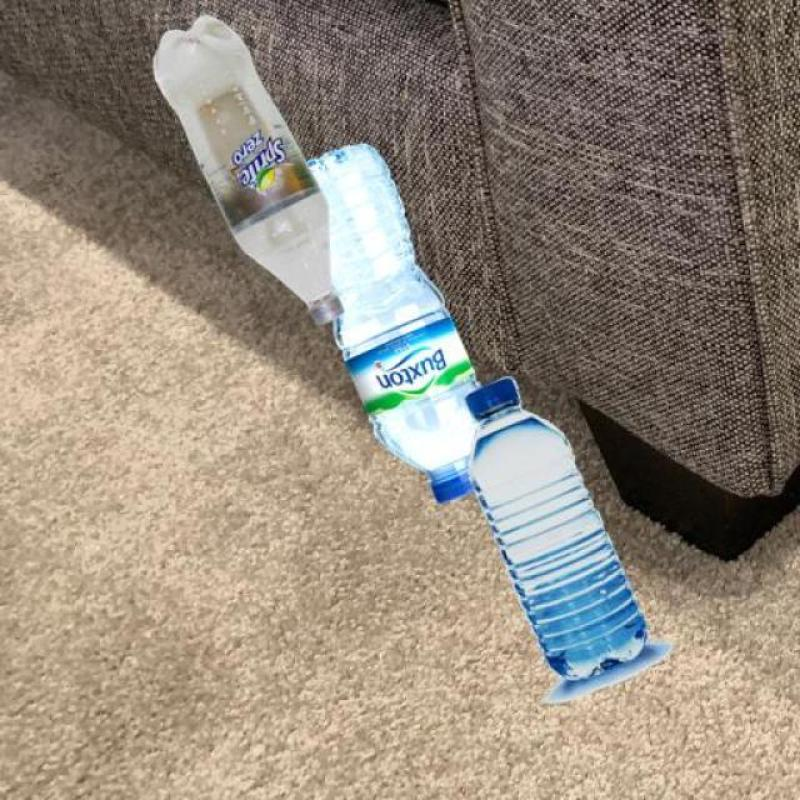botella: (290, 144, 480, 506), (148, 15, 344, 326), (465, 378, 650, 683)
